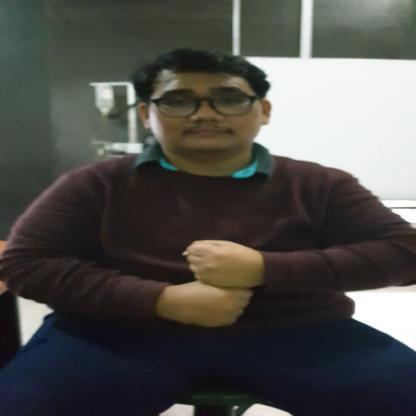G: (158, 237, 266, 330)
